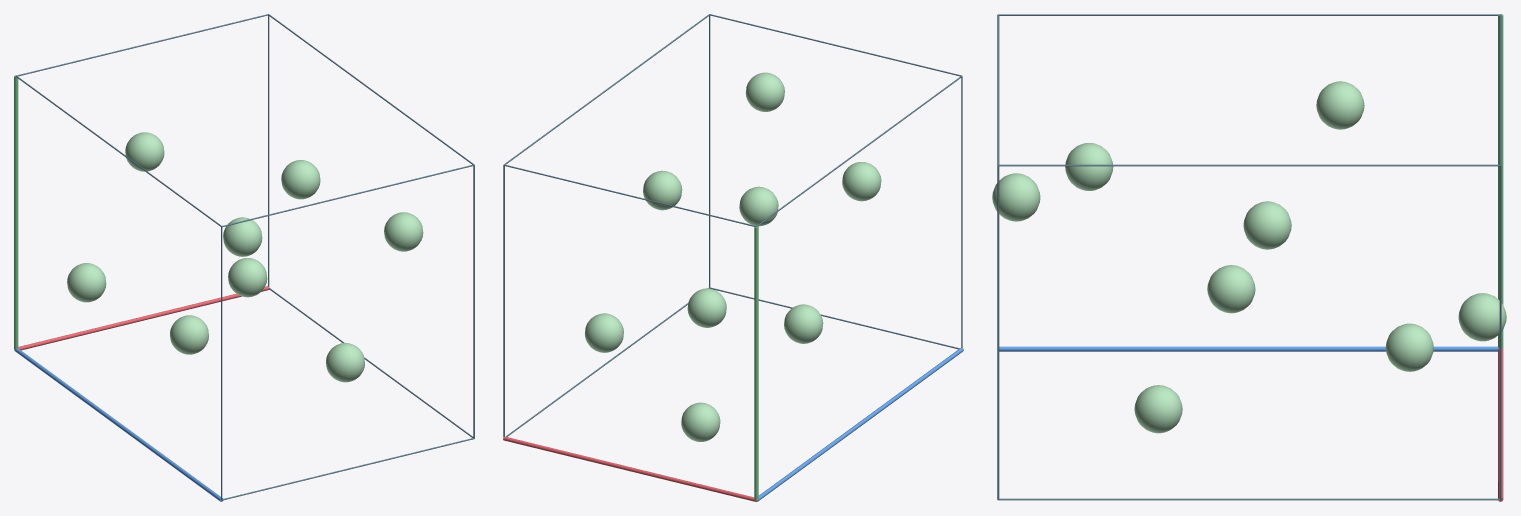
The model's file is nguyen-to-np.glb.
The picture shows the model from 3 angles, left to right: view 1: azimuth 30°, elevation 25°; view 2: azimuth 150°, elevation 25°; view 3: azimuth 270°, elevation 25°; orthographic projection. The views are drawn at different scales.
Visible parts, largest first — view 1: Ô mạng và các trục a, b, c, Np1 · Np · 1 (×4), Np2 · Np · 1 (×4); view 2: Ô mạng và các trục a, b, c, Np2 · Np · 1 (×4), Np1 · Np · 1 (×4); view 3: Ô mạng và các trục a, b, c, Np2 · Np · 1 (×4), Np1 · Np · 1 (×4).
Part boxes in pixels (bbox=[...]): Ô mạng và các trục a, b, c: bbox=[14, 14, 474, 501]; Np1 · Np · 1 (×4): bbox=[67, 160, 423, 354]; Np2 · Np · 1 (×4): bbox=[125, 132, 364, 382]; Ô mạng và các trục a, b, c: bbox=[503, 14, 963, 501]; Np2 · Np · 1 (×4): bbox=[585, 162, 881, 352]; Np1 · Np · 1 (×4): bbox=[643, 72, 823, 441]; Ô mạng và các trục a, b, c: bbox=[997, 14, 1503, 501]; Np2 · Np · 1 (×4): bbox=[1065, 81, 1433, 433]; Np1 · Np · 1 (×4): bbox=[992, 173, 1506, 341].
Size of the model in its own units: 4.77 by 4.93 by 6.82.
